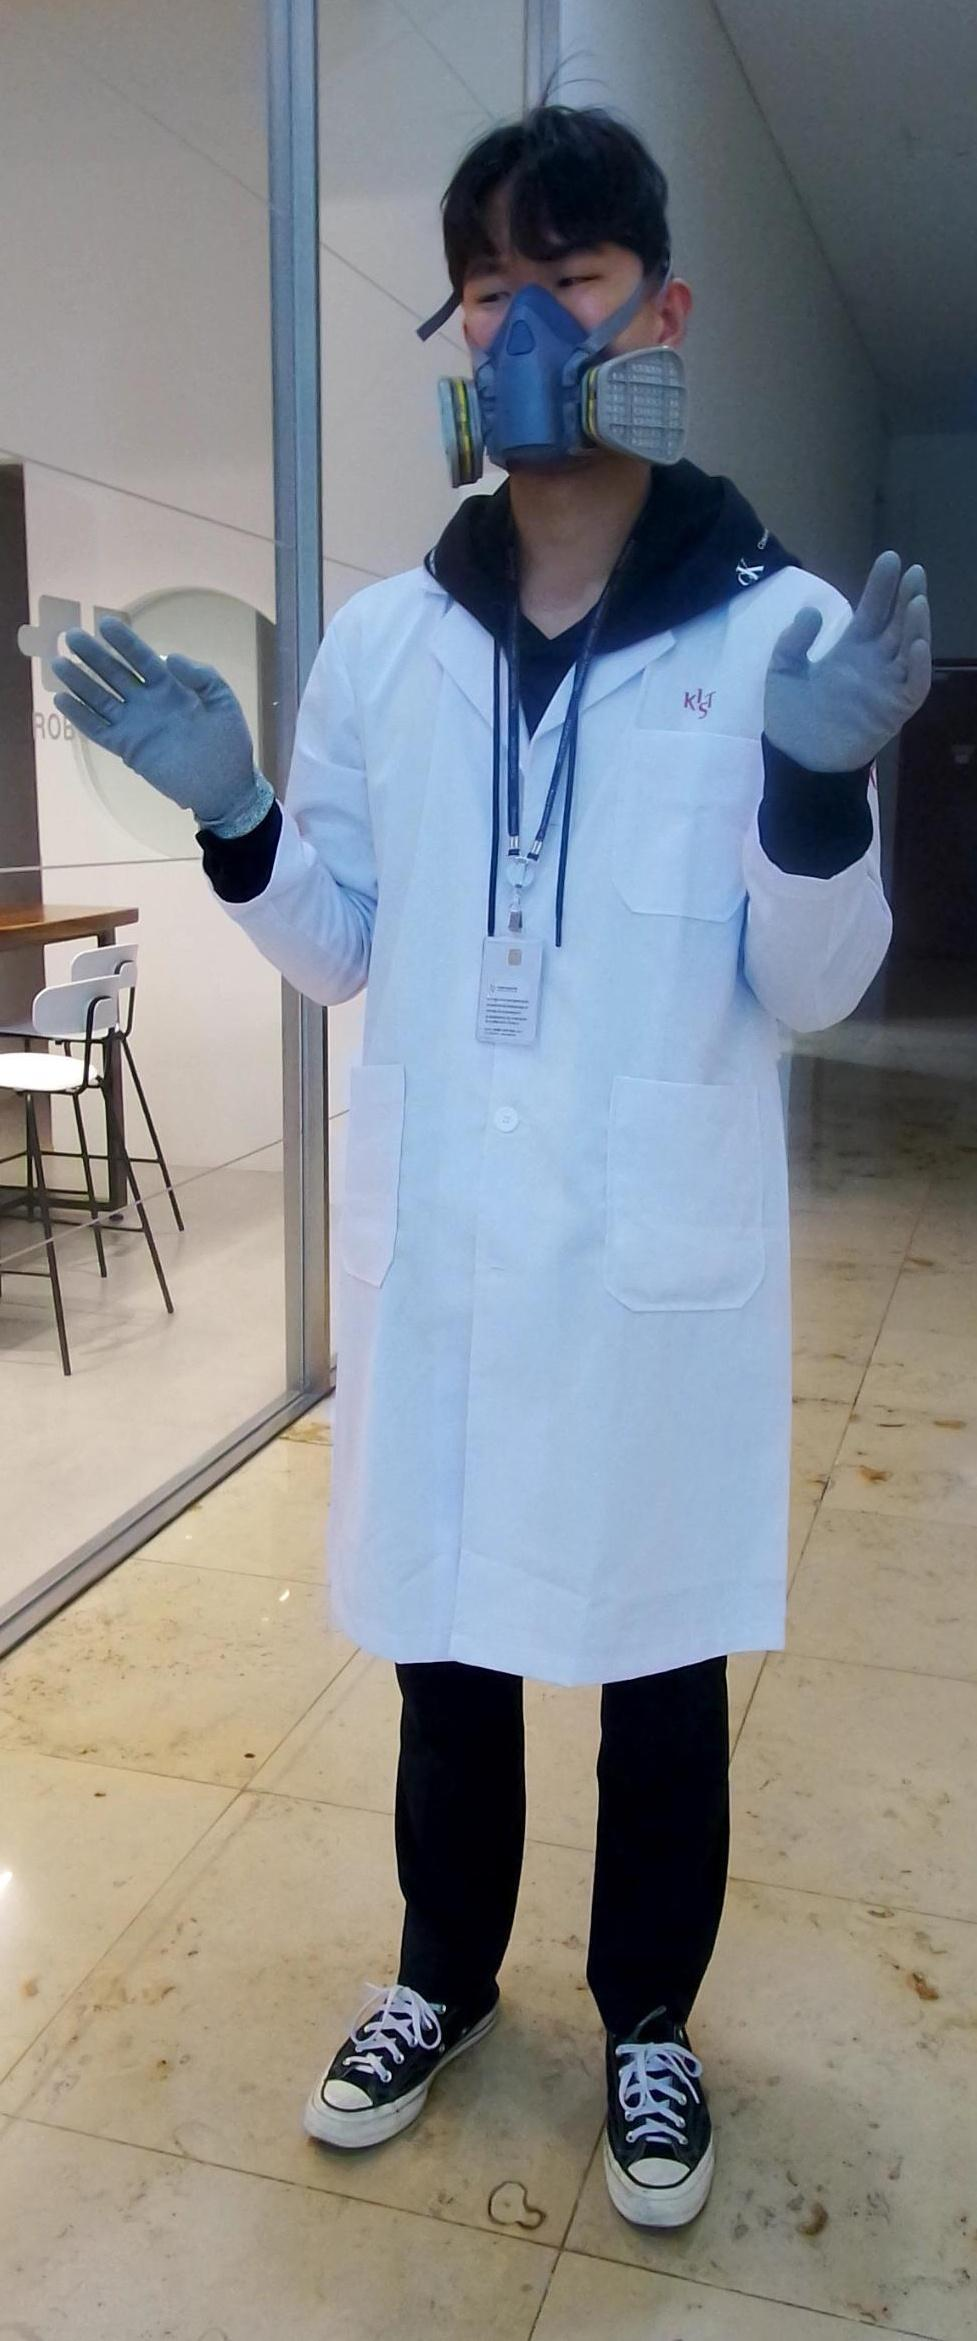lab_coat: (311, 540, 783, 1674)
